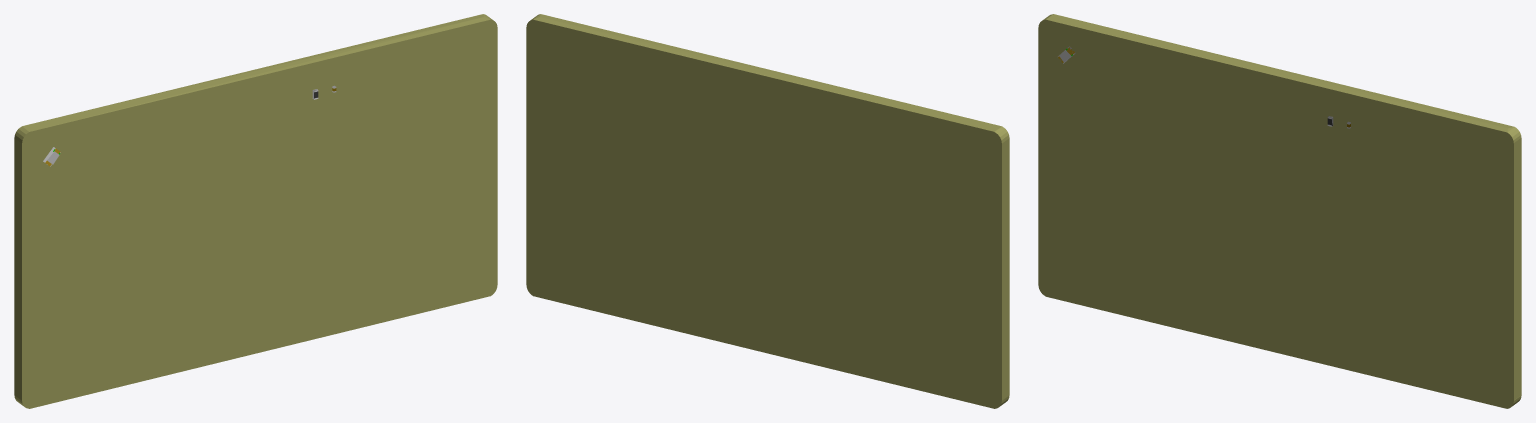
The model's file is OBJ_PCB_BITSHIFT.obj.
The picture shows the model from 3 angles, left to right: view 1: azimuth 30°, elevation 25°; view 2: azimuth 150°, elevation 25°; view 3: azimuth 330°, elevation 25°; orthographic projection.
Bounding box in the file's own units: 358 × 200 × 13.49.
